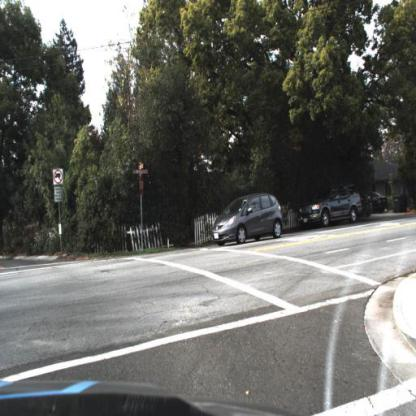car: (210, 191, 284, 246), (297, 179, 364, 228), (368, 188, 391, 214)
